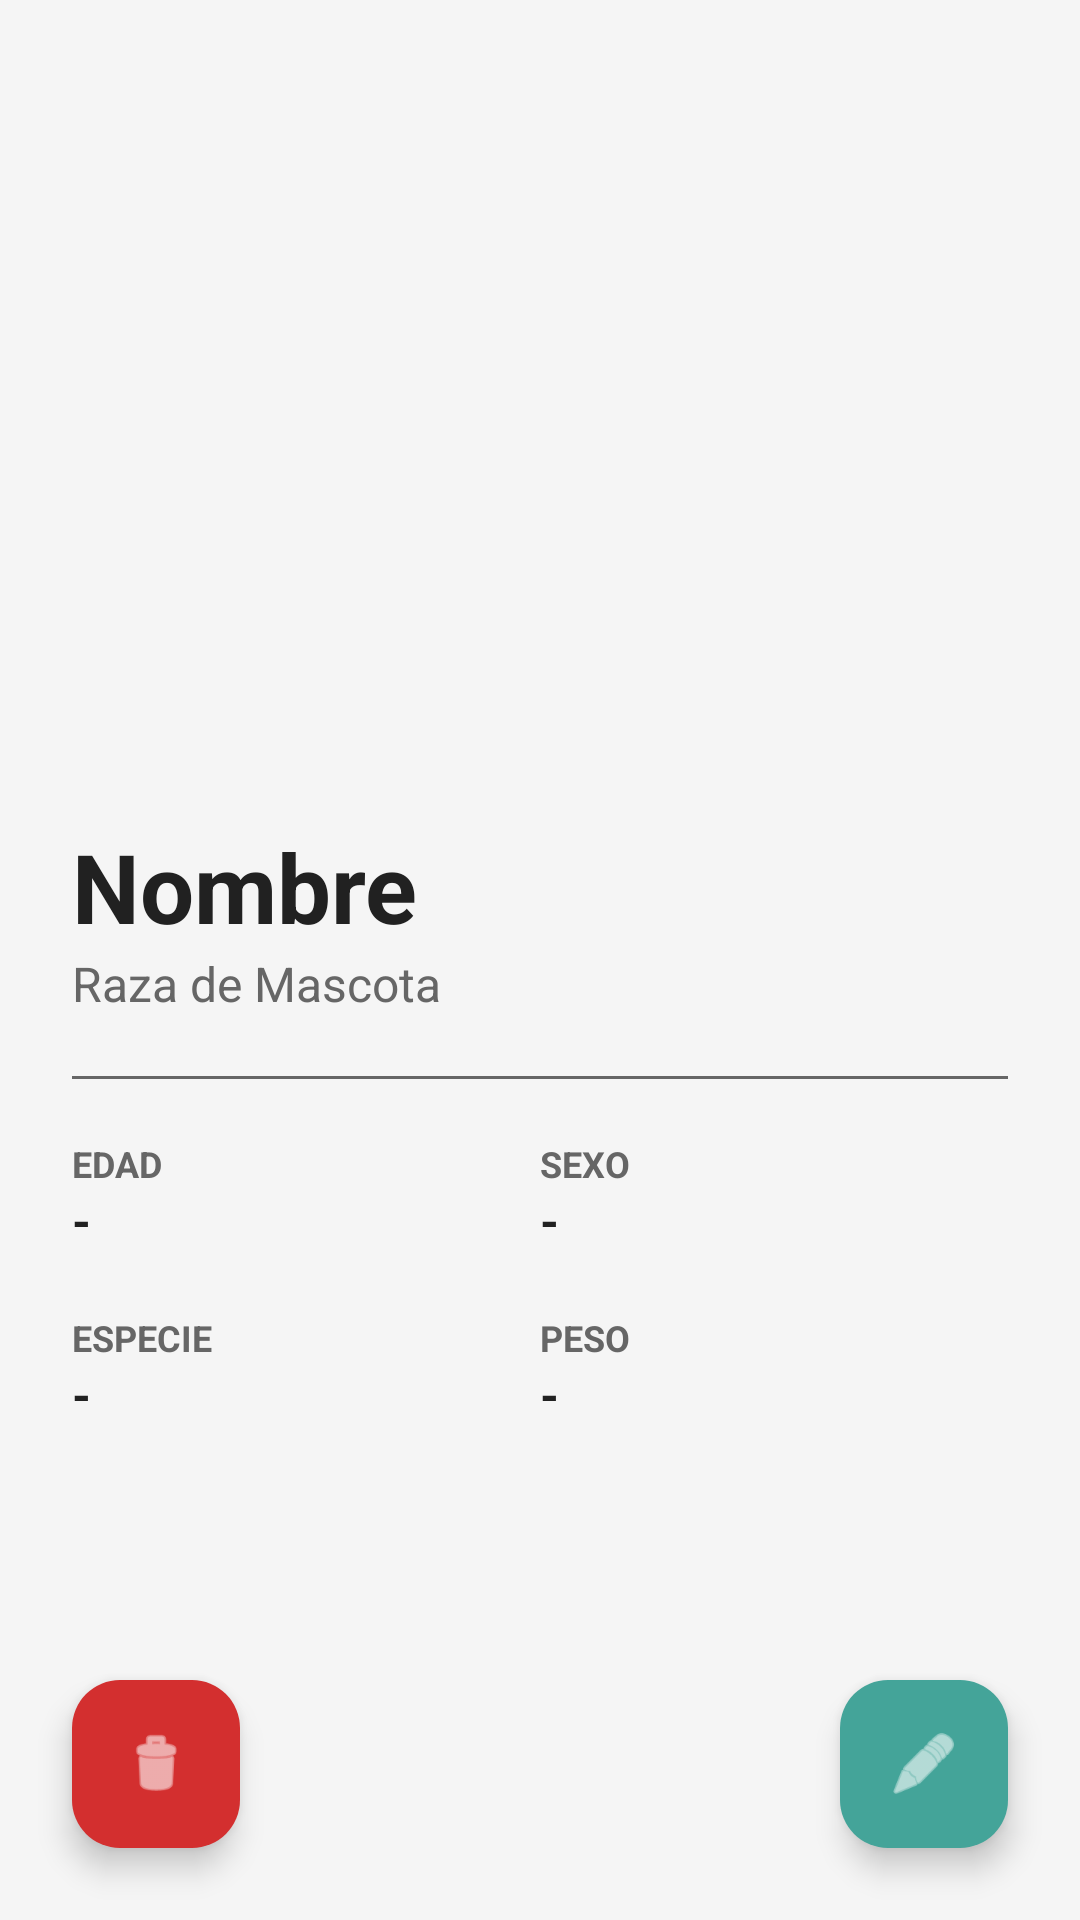

Screen size 1080 x 1920. Icon name, then its center in pixels as [x,y]:
delete: [156,1764]
edit: [924,1764]
